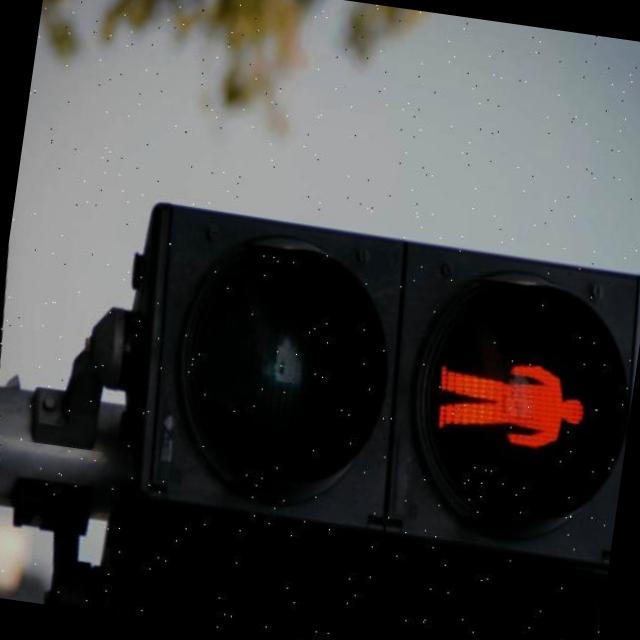red_light: (410, 316, 606, 484)
